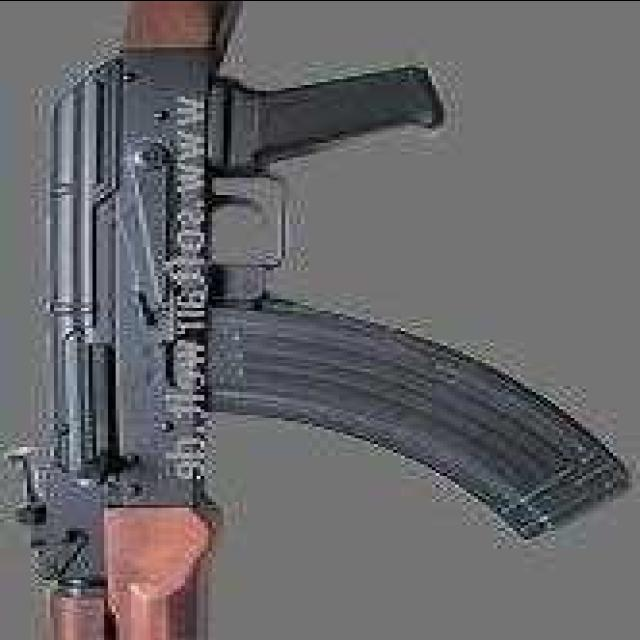heavyweapon: (24, 1, 630, 640)
